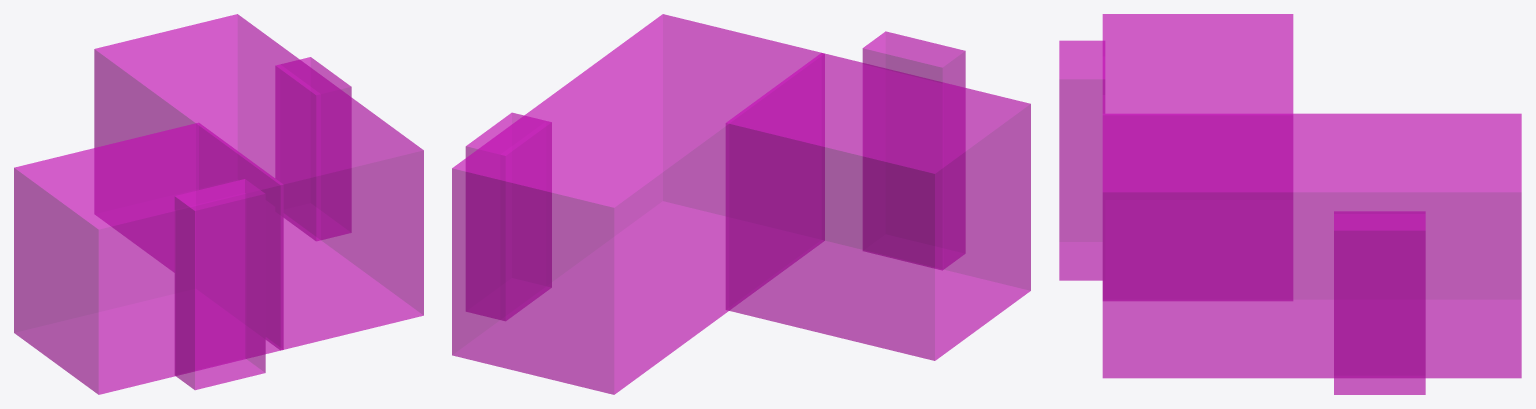
Rendered from SM_Bld_Wall_L_Corner_Damaged_02_Collision.fbx.
3 views of the same model, side by side, from view 1: azimuth 30°, elevation 25°; view 2: azimuth 150°, elevation 25°; view 3: azimuth 270°, elevation 25° (orthographic). The views are drawn at different scales.
Visible parts, largest first — view 1: SM_Bld_Wall_L_Corner_Damaged_02_Collision; view 2: SM_Bld_Wall_L_Corner_Damaged_02_Collision; view 3: SM_Bld_Wall_L_Corner_Damaged_02_Collision.
Boxes of the visible parts, <box> form: SM_Bld_Wall_L_Corner_Damaged_02_Collision: <box>14,14,423,394</box>; SM_Bld_Wall_L_Corner_Damaged_02_Collision: <box>452,14,1030,394</box>; SM_Bld_Wall_L_Corner_Damaged_02_Collision: <box>1059,14,1521,394</box>.
Bounding box in the file's own units: 458 × 220 × 458.
